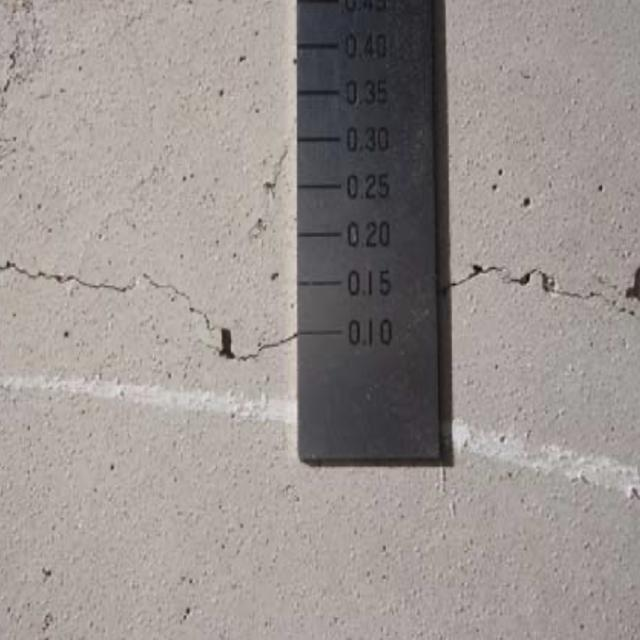crack: (4, 237, 287, 380), (447, 220, 640, 333)
